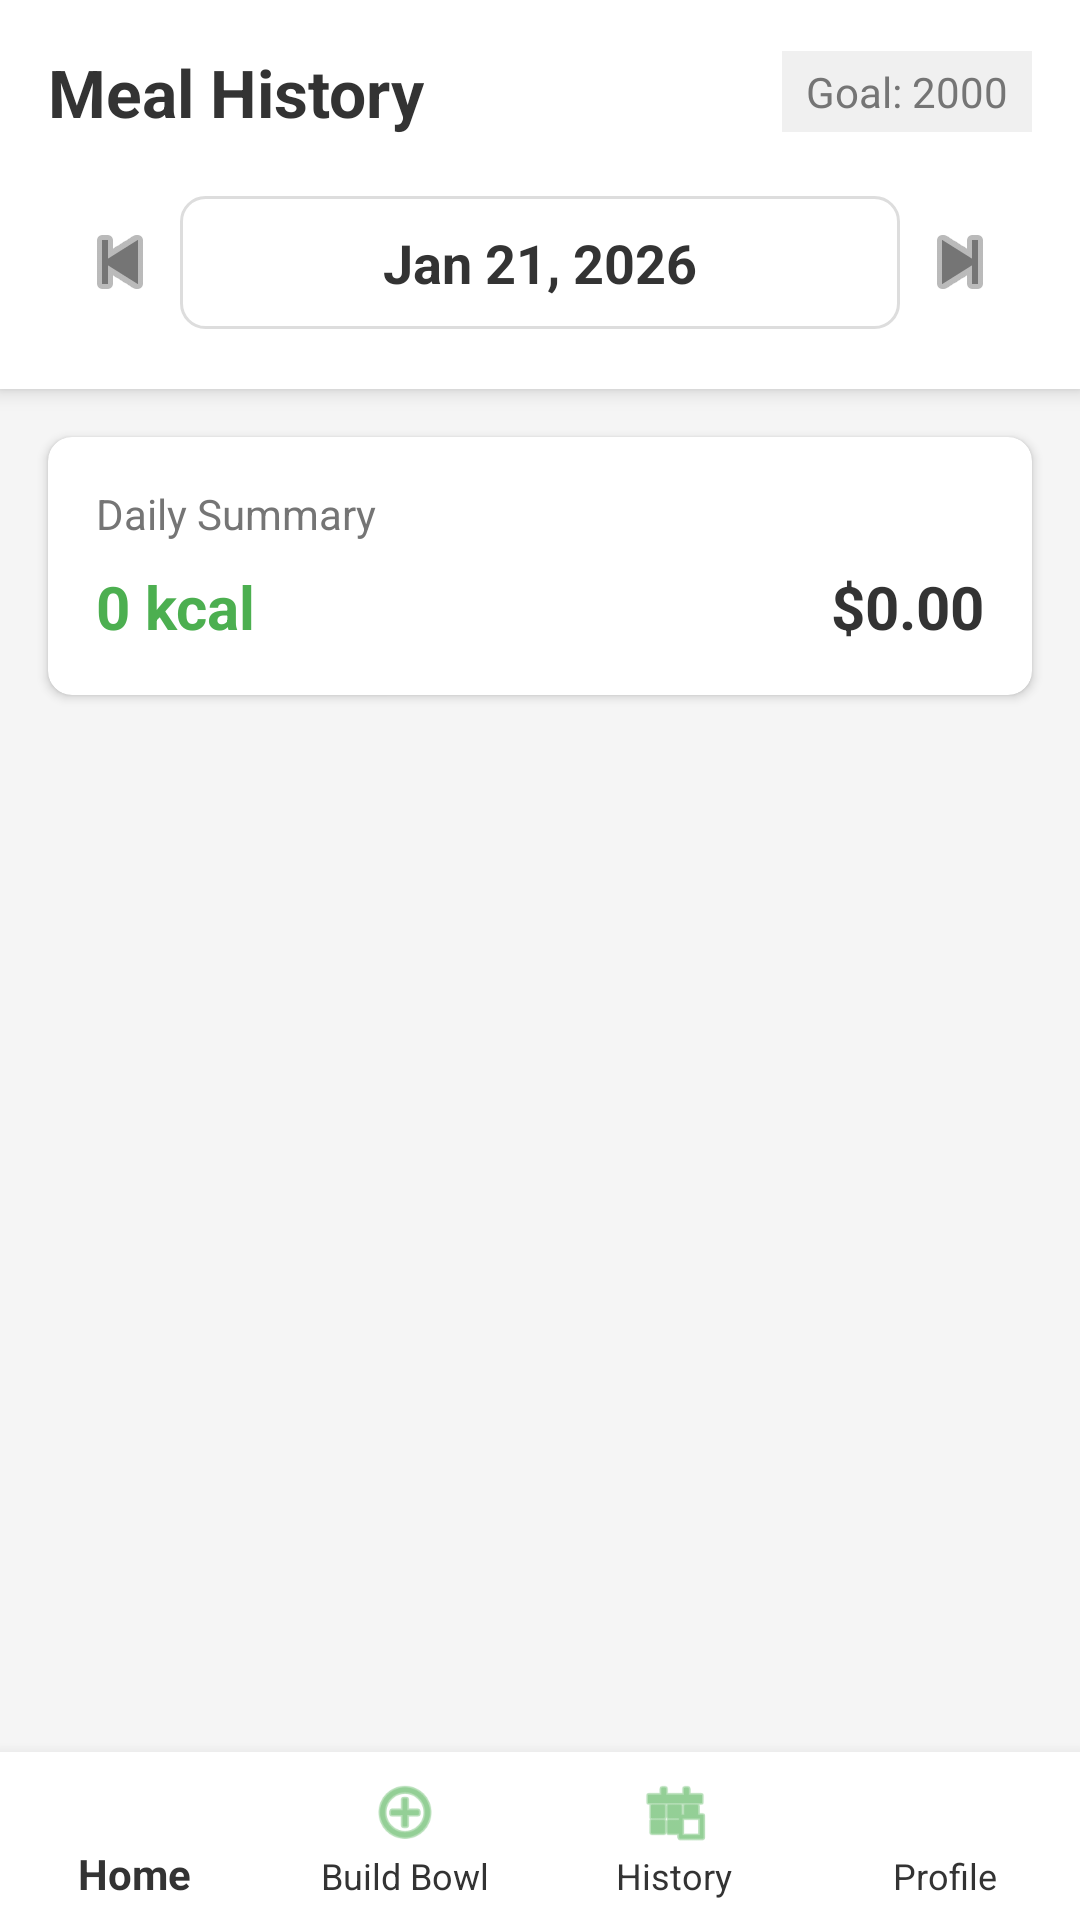

Named icons in this screenshot (1080 × 1920) and their centers, [x,y]:
next: [960,262]
previous: [120,262]
